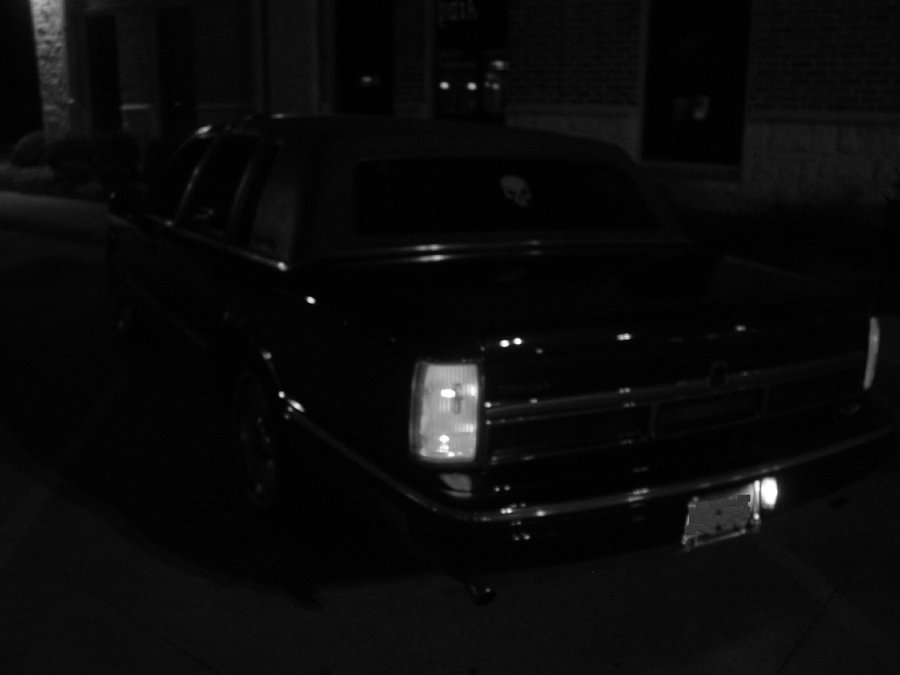car: (76, 93, 893, 628)
